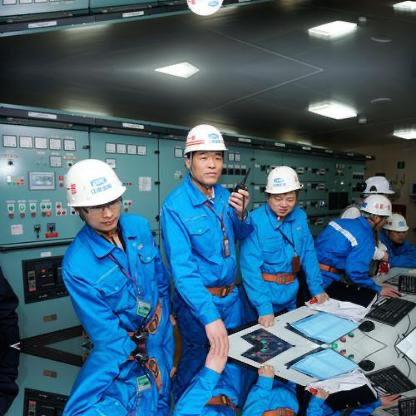Safety Helmet: (58, 156, 134, 241), (179, 121, 230, 195), (259, 164, 304, 220), (358, 194, 393, 229), (356, 173, 397, 198), (385, 212, 409, 245)
